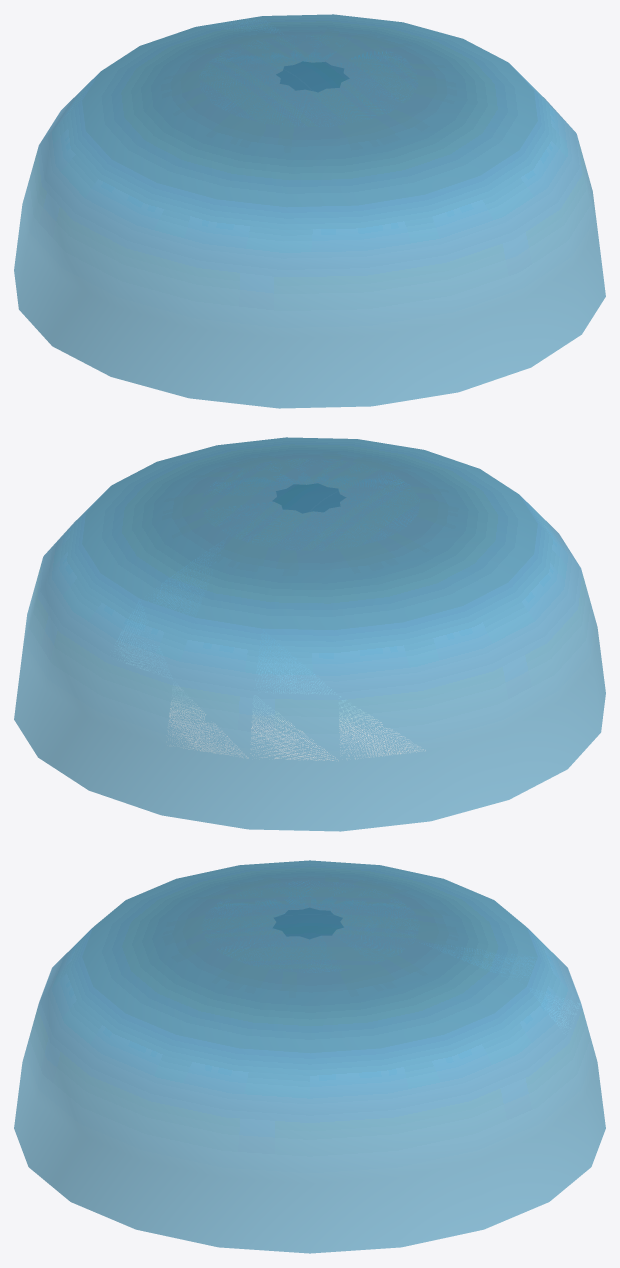
Rendered from stage-ruin-sky.glb.
The picture shows the model from 3 angles, top to bottom: view 1: azimuth 30°, elevation 25°; view 2: azimuth 150°, elevation 25°; view 3: azimuth 270°, elevation 25°; orthographic projection.
Parts seen in each view (by area): view 1: sky; view 2: sky; view 3: sky.
Part boxes in pixels (x1,y1,x2,y2): sky: (14, 14, 605, 408); sky: (14, 437, 605, 831); sky: (14, 860, 605, 1253).
Size of the model in its own units: 3660 by 1428 by 3660.
Materials: 3 (3 with a texture image).
